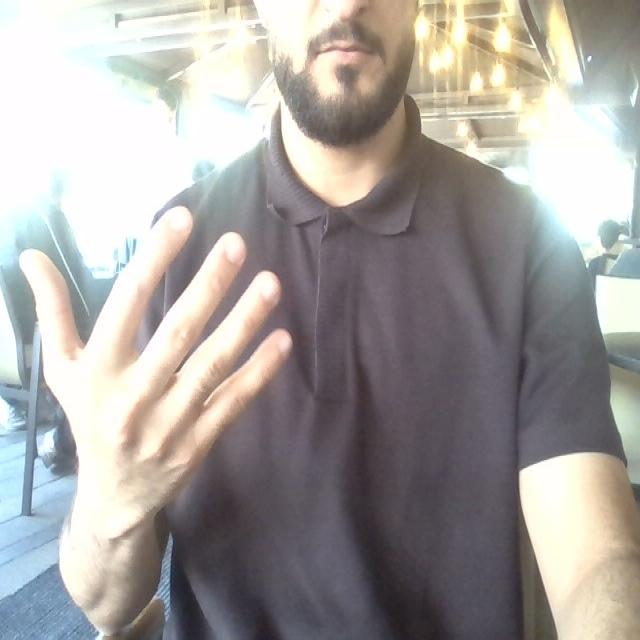Hand: (21, 208, 290, 537)
